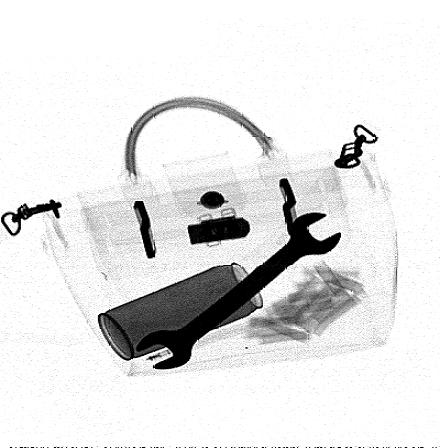Wrench: (135, 211, 342, 371)
